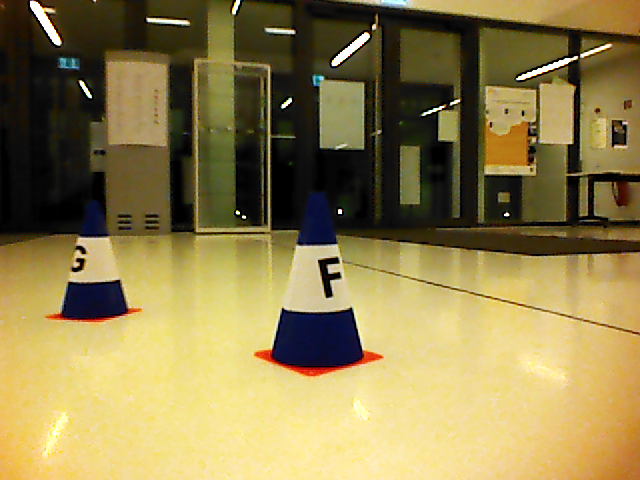bluecone: (269, 190, 365, 366), (61, 201, 129, 319)
